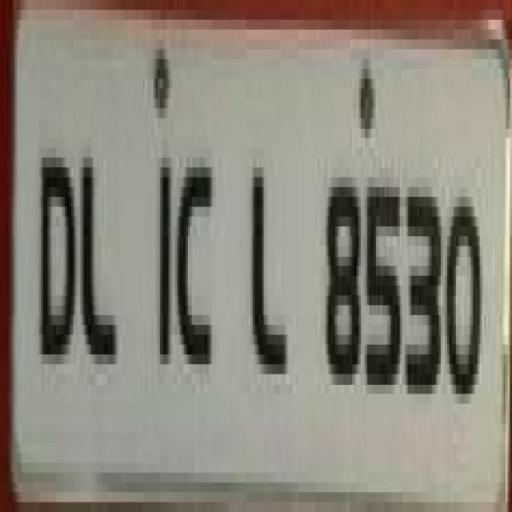number plate: (13, 19, 512, 512)
